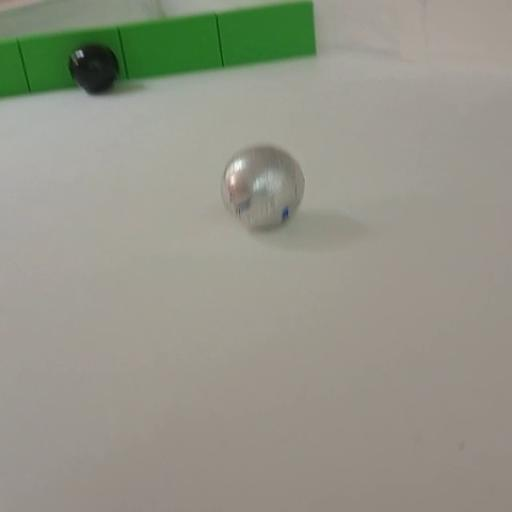alive: (218, 141, 307, 234)
dead: (68, 42, 120, 94)
